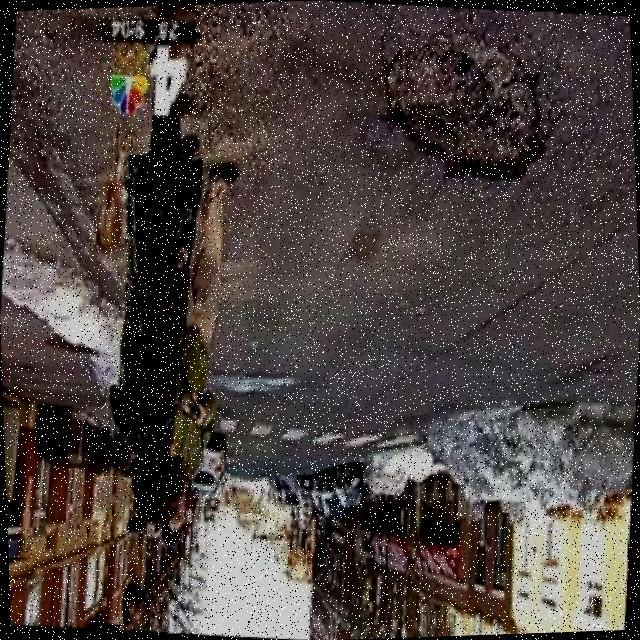Pothole: (382, 39, 545, 179)
